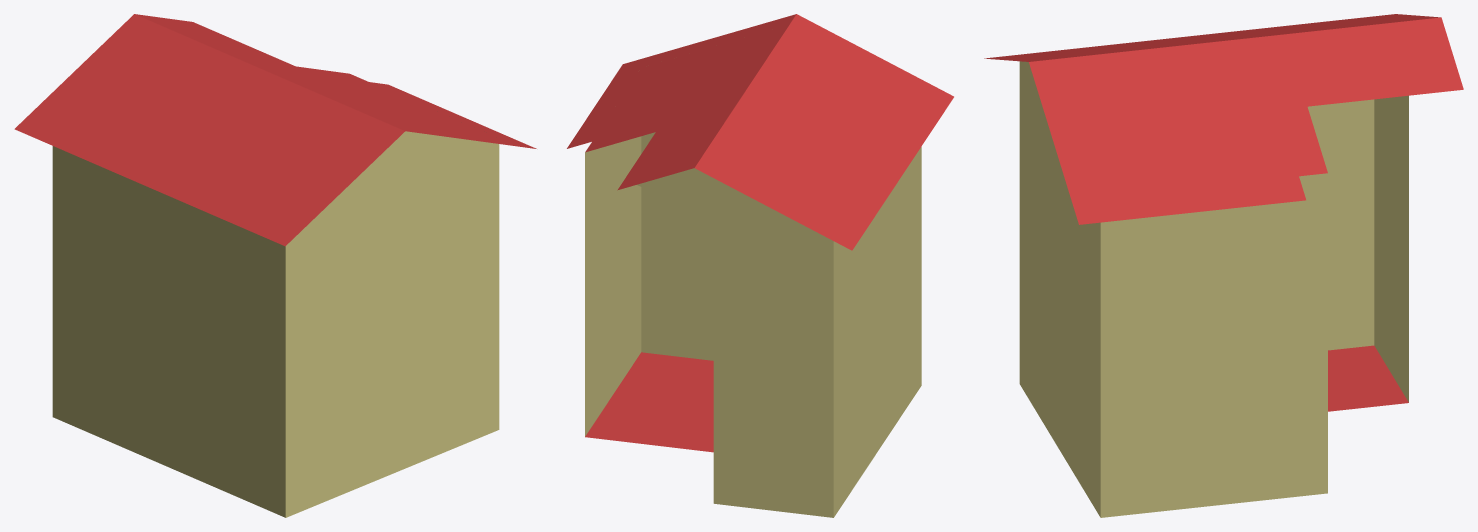
3 renders of one model, left to right at view 1: azimuth 30°, elevation 25°; view 2: azimuth 150°, elevation 25°; view 3: azimuth 270°, elevation 25°, orthographic. The views are drawn at different scales.
Bounding box in the file's own units: 12.04 × 12.04 × 10.72.
